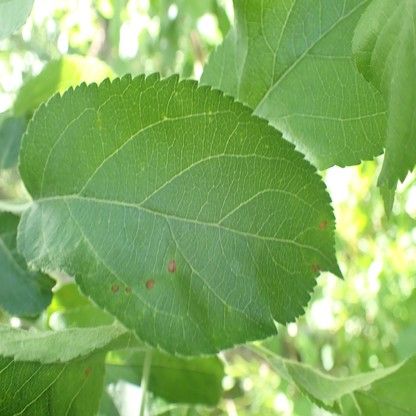frogeye_leaf_spot: (168, 260, 177, 272), (145, 279, 155, 289), (311, 263, 321, 273), (85, 365, 91, 376), (124, 286, 132, 294), (320, 222, 327, 230), (111, 285, 119, 292)
